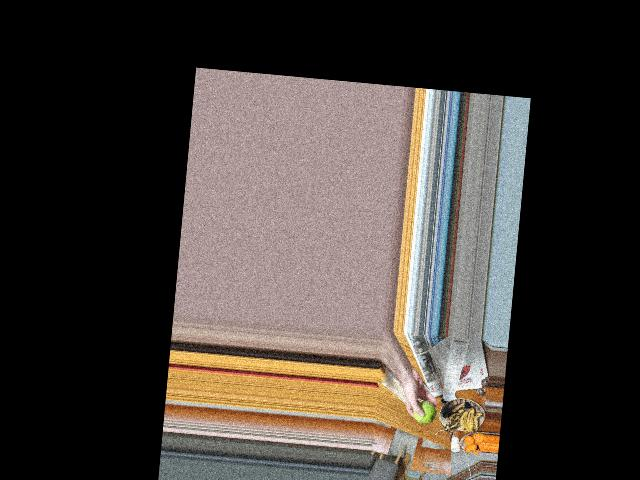apple: (414, 395, 438, 425)
